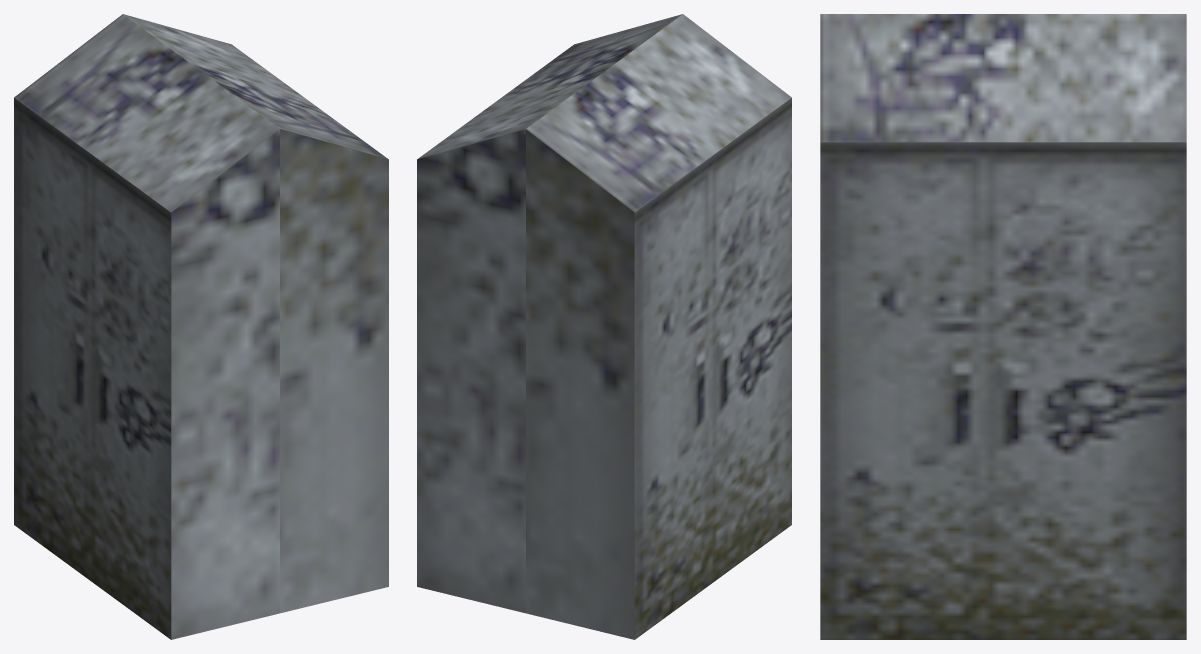
Rendered from electricalbox0.fbx.
3 renders of one model, left to right at view 1: azimuth 30°, elevation 25°; view 2: azimuth 150°, elevation 25°; view 3: azimuth 270°, elevation 25°, orthographic. The views are drawn at different scales.
Visible parts, largest first — view 1: electricalbox0; view 2: electricalbox0; view 3: electricalbox0.
Part boxes in pixels (x1,y1,x2,y2): electricalbox0: (14,14,388,639); electricalbox0: (417,14,791,639); electricalbox0: (820,14,1186,639).
Bounding box in the file's own units: 80 × 100 × 170.
1 material, 1 textured.
